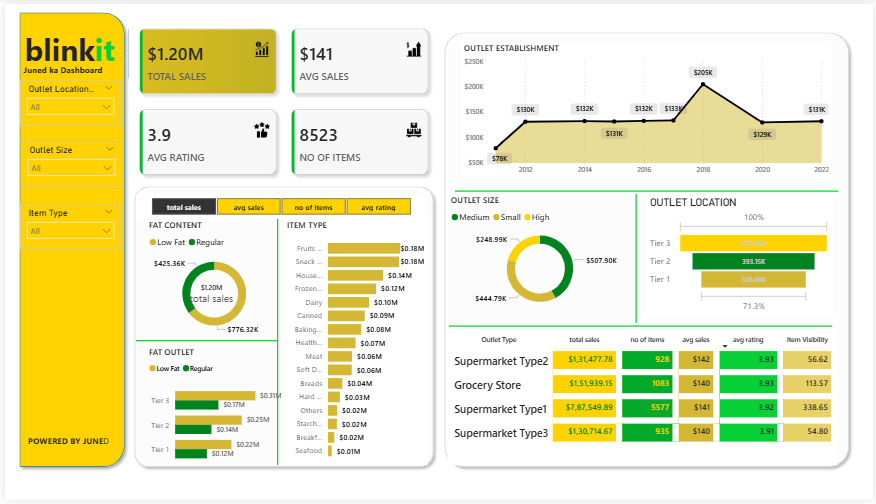

What the dashboard file says about the page in this screenshot:
{"tool":"powerbi","page":{"name":"Page 1","canvas":[1400,800],"ordinal":0},"visuals":[{"type":"shape","box":[14.3,4.8,187.3,750.8],"z":0},{"type":"textbox","box":[6.3,36.2,204.7,89.8],"z":1000},{"type":"textbox","box":[0,91.3,187.4,34.6],"z":2000},{"type":"cardVisual","fields":{"Data":["BlinkIT Grocery Data.total sales","BlinkIT Grocery Data.avg sales","BlinkIT Grocery Data.avg rating","BlinkIT Grocery Data.no of items"]},"box":[200,23.3,500,270],"z":3000},{"type":"shape","box":[200,285,500,470],"z":4000},{"type":"donutChart","title":"FAT CONTENT","fields":{"Y":["BlinkIT Grocery Data.total sales"],"Category":["BlinkIT Grocery Data.Item Fat Content"]},"box":[226.7,346.7,220,195],"z":5000},{"type":"slicer","fields":{"Values":["metrices.metrices"]},"box":[211.7,306.7,466.7,40],"z":6000},{"type":"cardVisual","fields":{"Data":["BlinkIT Grocery Data.total sales"]},"box":[276,432,114,56],"z":7000},{"type":"clusteredBarChart","title":"FAT OUTLET","fields":{"Y":["BlinkIT Grocery Data.total sales"],"Category":["BlinkIT Grocery Data.Outlet Location Type"],"Series":["BlinkIT Grocery Data.Item Fat Content"]},"box":[226.7,551.7,223.3,203.3],"z":8000},{"type":"shape","box":[431.7,346.7,15,396.7],"z":9000},{"type":"shape","box":[211.7,533.3,228.3,18.3],"z":10000},{"type":"clusteredBarChart","title":"ITEM TYPE","fields":{"Category":["BlinkIT Grocery Data.Item Type"],"Y":["BlinkIT Grocery Data.total sales"]},"box":[450,346.7,231.7,396.7],"z":11000},{"type":"shape","box":[700,36.7,670,718.3],"z":11001},{"type":"lineChart","title":"OUTLET ESTABLISHMENT","fields":{"Y":["BlinkIT Grocery Data.total sales"],"Category":["BlinkIT Grocery Data.Outlet Establishment Year"]},"box":[735,61.7,598.3,223.3],"z":11002},{"type":"shape","box":[716.7,515,618.3,10],"z":11003},{"type":"donutChart","title":"OUTLET SIZE ","fields":{"Y":["BlinkIT Grocery Data.total sales"],"Category":["BlinkIT Grocery Data.Outlet Size"]},"box":[715,306.7,296.7,195],"z":11004},{"type":"shape","box":[1011.7,306.7,13.3,208.3],"z":11005},{"type":"funnel","title":"OUTLET LOCATION","fields":{"Y":["BlinkIT Grocery Data.Sales"],"Category":["BlinkIT Grocery Data.Outlet Location Type"]},"box":[1035,310,300,191.7],"z":11006},{"type":"shape","box":[725,296.7,618.3,10],"z":11007},{"type":"pivotTable","fields":{"Rows":["BlinkIT Grocery Data.Outlet Type"],"Values":["BlinkIT Grocery Data.total sales","BlinkIT Grocery Data.no of items","BlinkIT Grocery Data.avg sales","BlinkIT Grocery Data.avg rating","BlinkIT Grocery Data.Item Visibility"]},"box":[715,525,628.3,218.3],"z":11008},{"type":"slicer","fields":{"Values":["BlinkIT Grocery Data.Outlet Location Type"]},"box":[23.8,122.2,163.5,73],"z":11009},{"type":"slicer","fields":{"Values":["BlinkIT Grocery Data.Outlet Size"]},"box":[25.4,220.6,163.5,73],"z":11010},{"type":"slicer","fields":{"Values":["BlinkIT Grocery Data.Item Type"]},"box":[23.8,322.2,163.5,73],"z":11011},{"type":"textbox","box":[31.7,690.5,147.6,34.9],"z":11012}]}

Visuals, with their boxes in screenshot pixels (x1, y1, x2, y2), scaled from the page's 1400x800 canvas onto the 876x504 screenshot:
shape: bbox(9, 3, 126, 476)
textbox: bbox(4, 23, 132, 79)
textbox: bbox(0, 58, 117, 79)
cardVisual - BlinkIT Grocery Data.total sales x BlinkIT Grocery Data.avg sales: bbox(125, 15, 438, 185)
shape: bbox(125, 180, 438, 476)
"FAT CONTENT" donutChart: bbox(142, 218, 280, 341)
slicer - metrices.metrices: bbox(132, 193, 424, 218)
cardVisual - BlinkIT Grocery Data.total sales: bbox(173, 272, 244, 307)
"FAT OUTLET" clusteredBarChart: bbox(142, 348, 282, 476)
shape: bbox(270, 218, 280, 468)
shape: bbox(132, 336, 275, 348)
"ITEM TYPE" clusteredBarChart: bbox(282, 218, 427, 468)
shape: bbox(438, 23, 857, 476)
"OUTLET ESTABLISHMENT" lineChart: bbox(460, 39, 834, 180)
shape: bbox(448, 324, 835, 331)
"OUTLET SIZE " donutChart: bbox(447, 193, 633, 316)
shape: bbox(633, 193, 641, 324)
"OUTLET LOCATION" funnel: bbox(648, 195, 835, 316)
shape: bbox(454, 187, 841, 193)
pivotTable - BlinkIT Grocery Data.Outlet Type x BlinkIT Grocery Data.total sales: bbox(447, 331, 841, 468)
slicer - BlinkIT Grocery Data.Outlet Location Type: bbox(15, 77, 117, 123)
slicer - BlinkIT Grocery Data.Outlet Size: bbox(16, 139, 118, 185)
slicer - BlinkIT Grocery Data.Item Type: bbox(15, 203, 117, 249)
textbox: bbox(20, 435, 112, 457)
